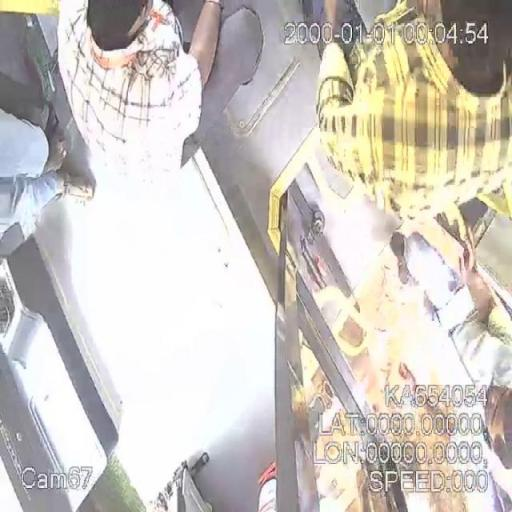persona: (313, 3, 512, 213), (54, 0, 225, 190), (385, 232, 512, 475)
